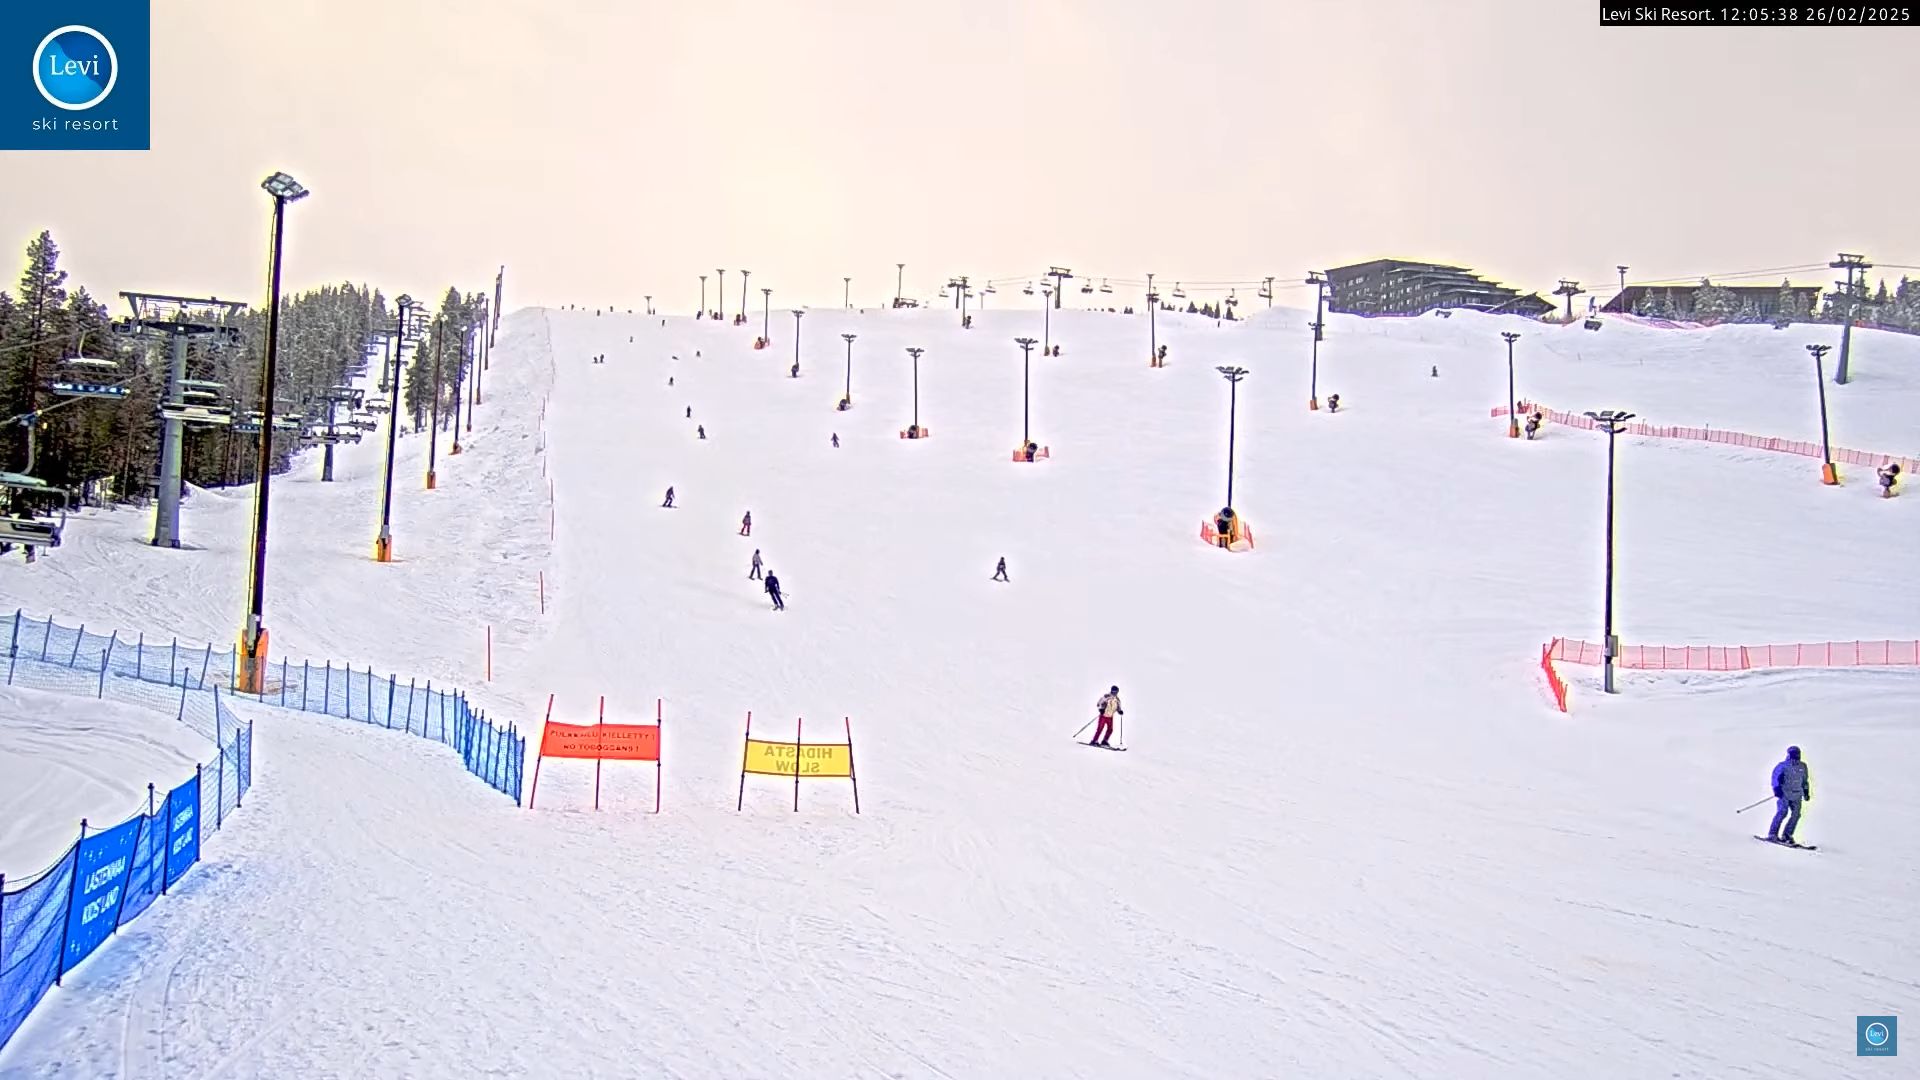skier: (1735, 746, 1820, 855), (1068, 678, 1127, 754), (762, 570, 791, 616), (989, 551, 1018, 584)
